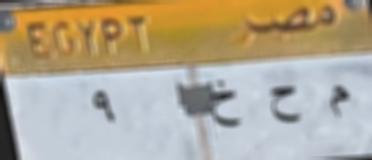7aa: (260, 84, 308, 127)
9: (90, 84, 122, 127)
khaa: (206, 76, 242, 134)
meem: (322, 81, 353, 118)
